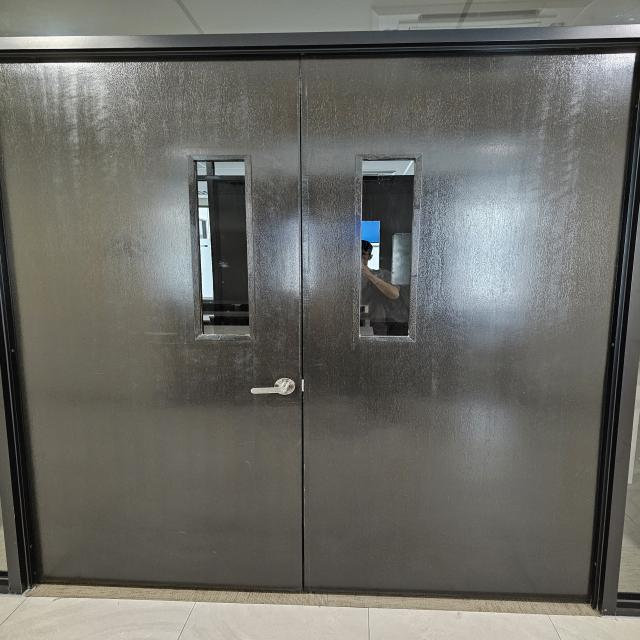door: (2, 29, 640, 610)
